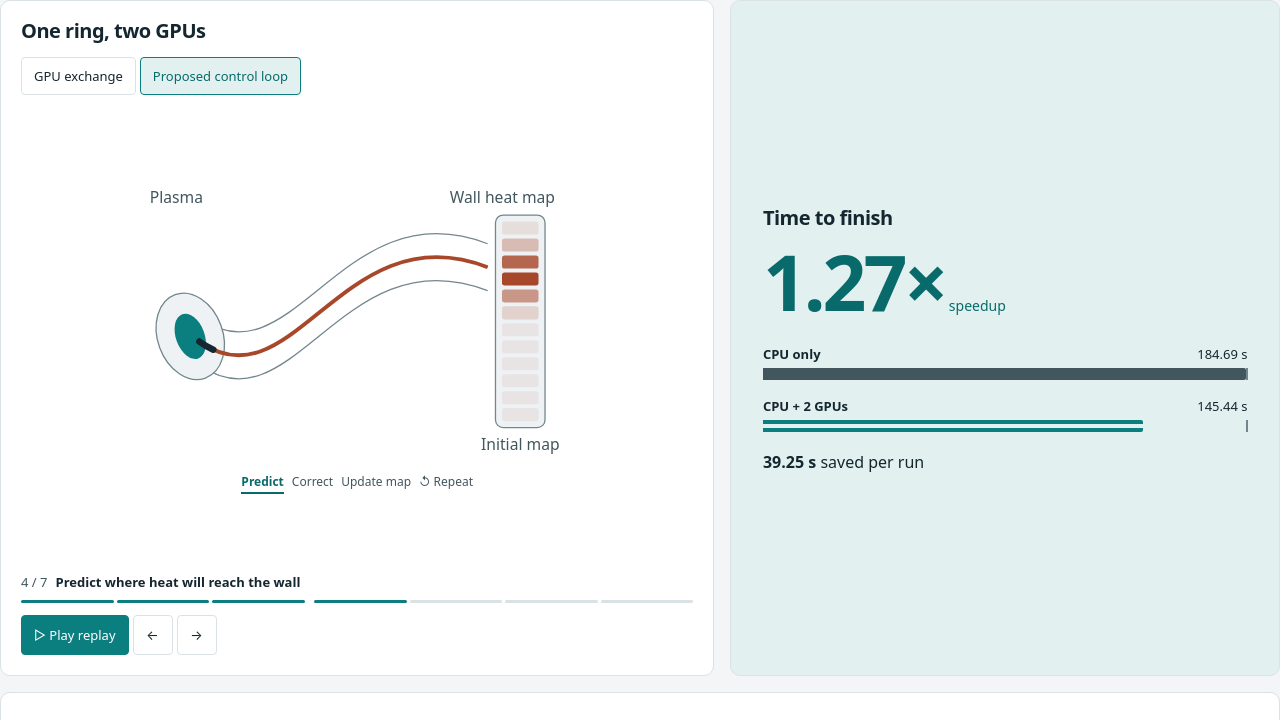
S5 ring of 6 toroidal planes coloured by rank, exchange arrows both ways, CPU field-solve node, "Dommaschk geometry — not W7-X"
The image size is (1280, 720).
Expected: the message shows "Predict where heat will reach the wall", [56,573,300,591]
Step 1. Click the button "GPU exchange" → (78, 76), box [21,57,136,95]
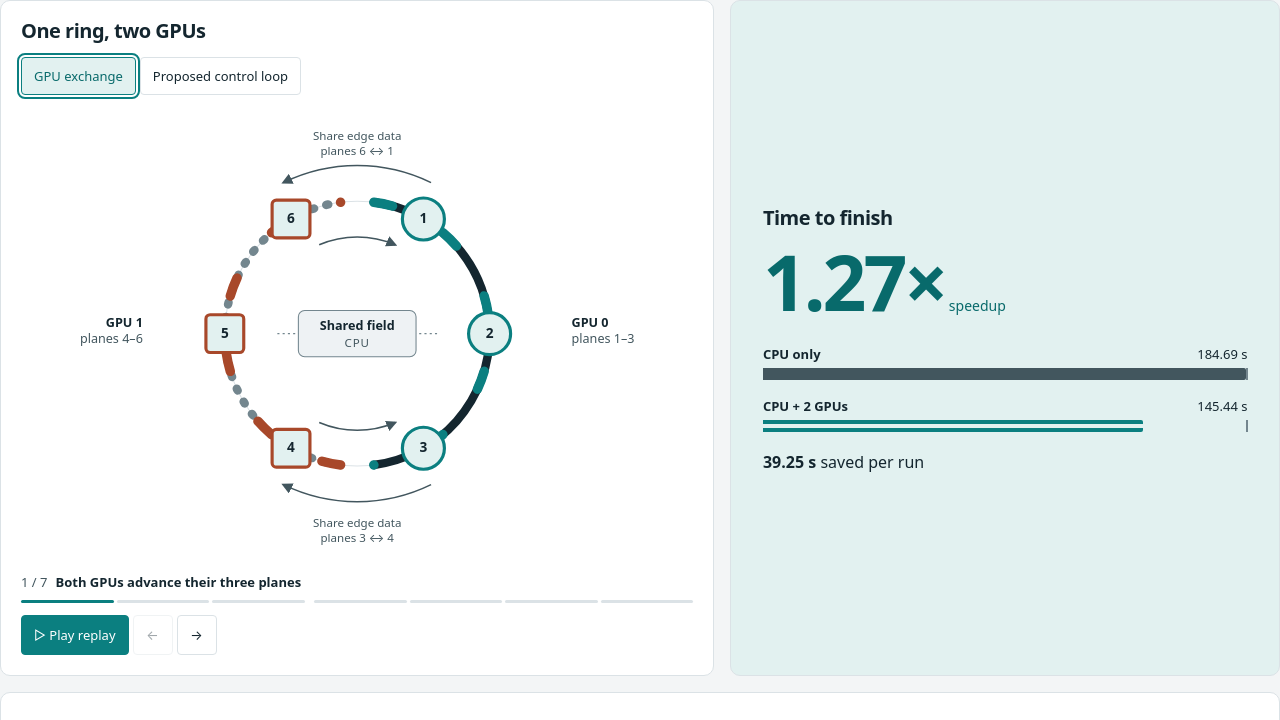
Result: the picture named "Ring of 6 toroidal planes on the Dommaschk geometry, coloured by MPI rank" shows "planes 3 ↔ 4" at [320,530,394,544]
Result: the picture named "Ring of 6 toroidal planes on the Dommaschk geometry, coloured by MPI rank" shows "planes 6 ↔ 1" at [320,143,394,158]
